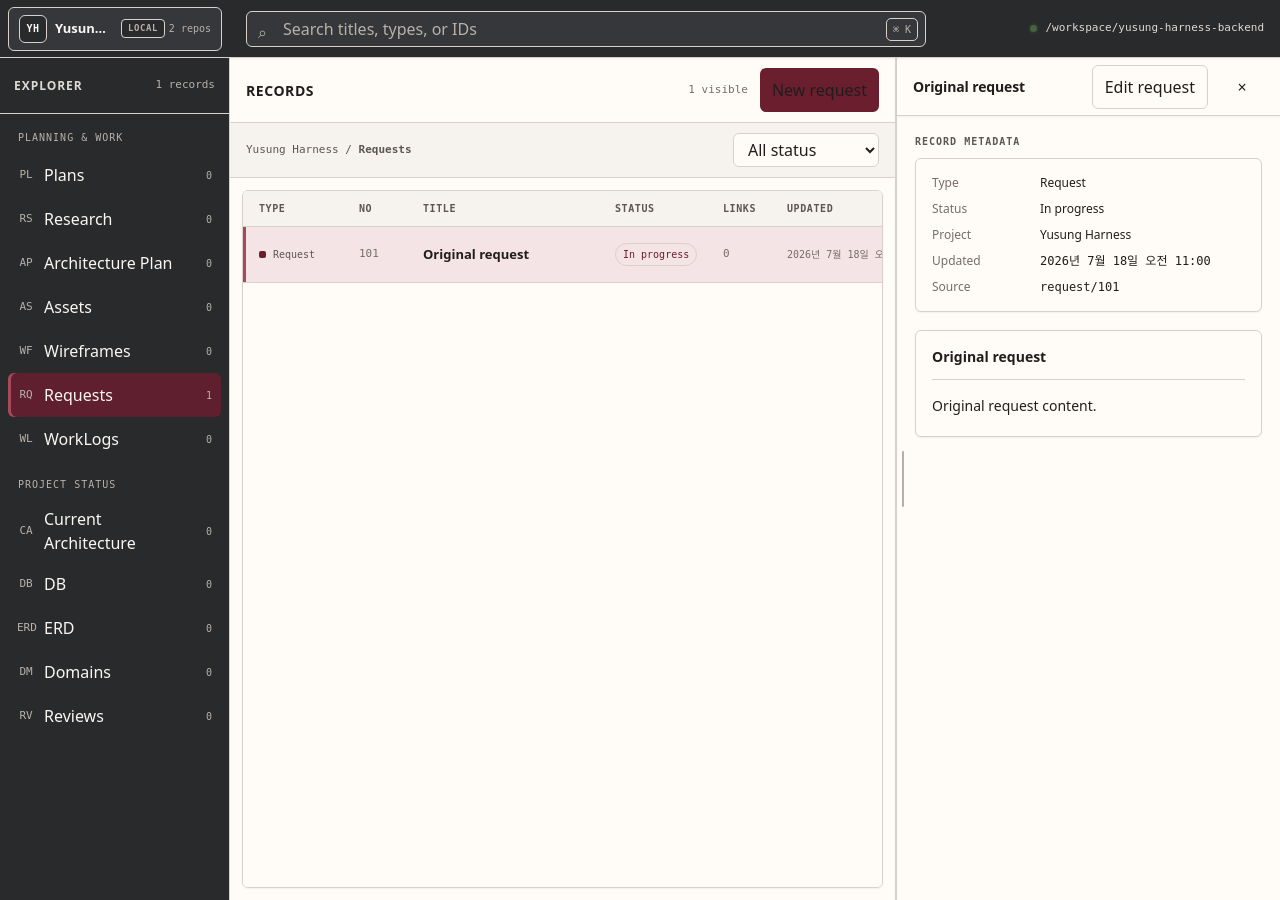
Test: Request central document mutations › 기존 Request 수정은 status 선택을 노출하지 않고 title/content와 현재 status를 함께 저장한다
Click the button "Edit request" at (1150, 86), box [1092, 64, 1208, 108]
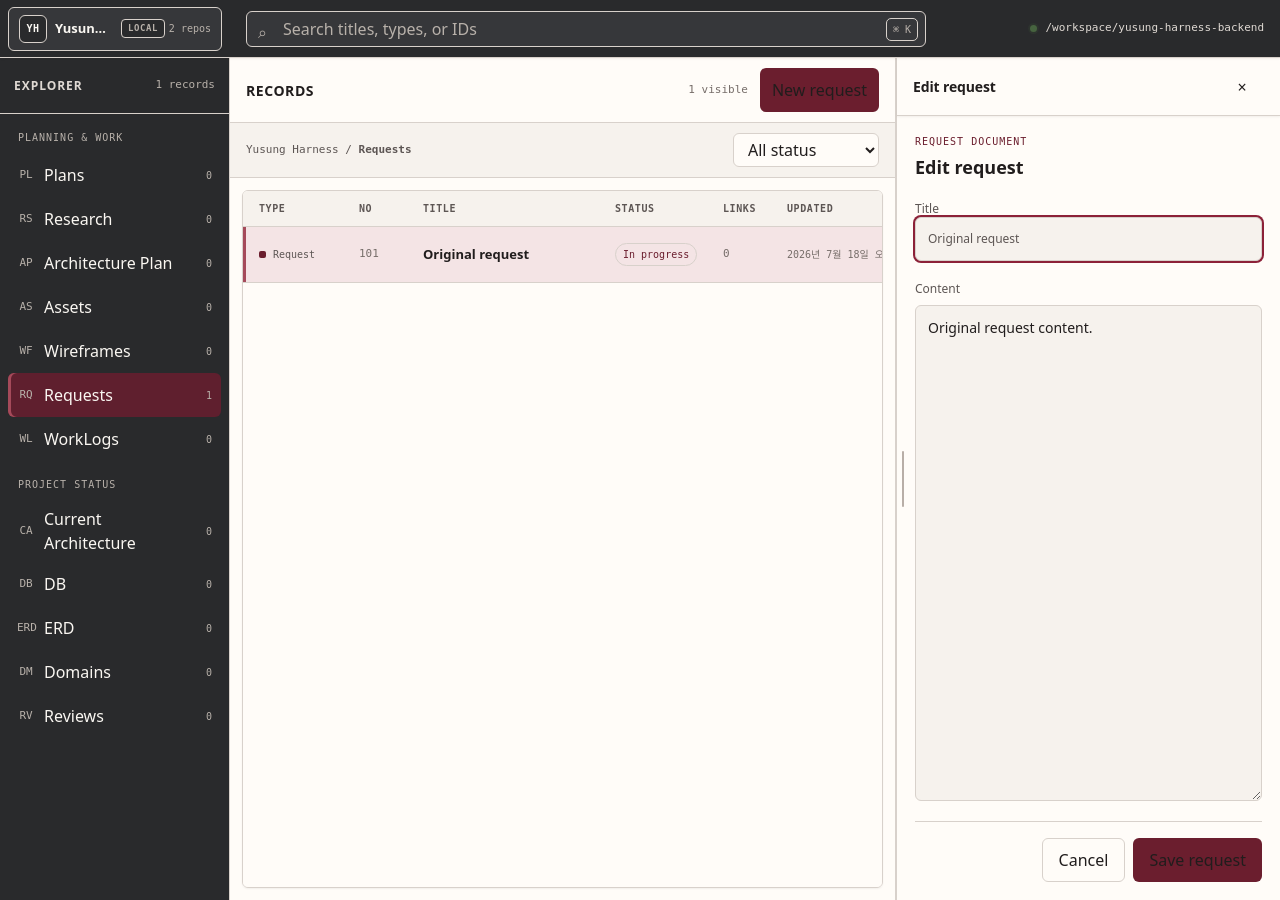
Now the field labelled "Title" holds "Original request"
Now the text box labelled "Content" holds "Original request content.", box [915, 305, 1262, 801]
Replace the text in the field labelled "Title" with "Updated request" at (1088, 239), box [915, 217, 1262, 261]
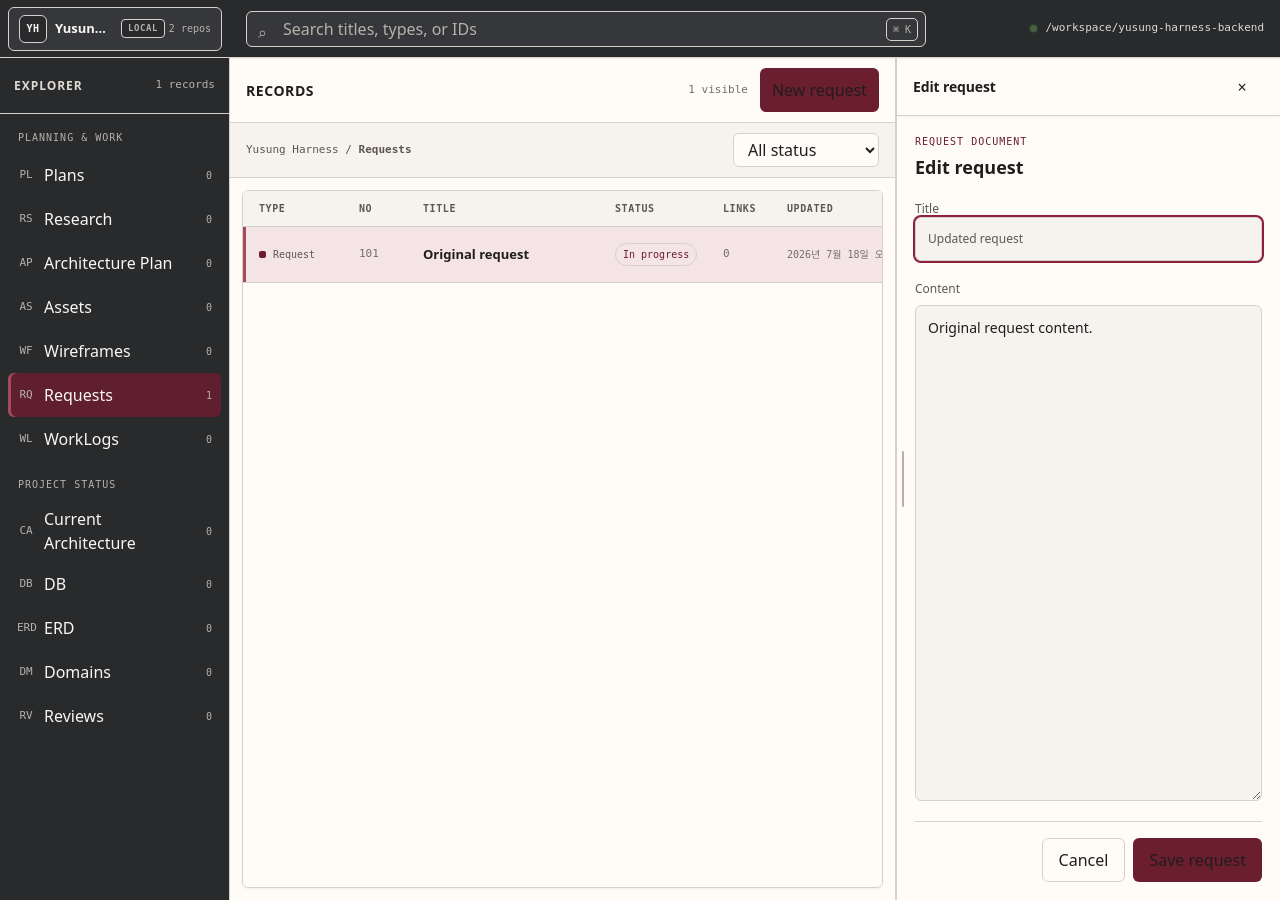
Replace the text in the text box labelled "Content" with "Updated request content." at (1088, 553), box [915, 305, 1262, 801]
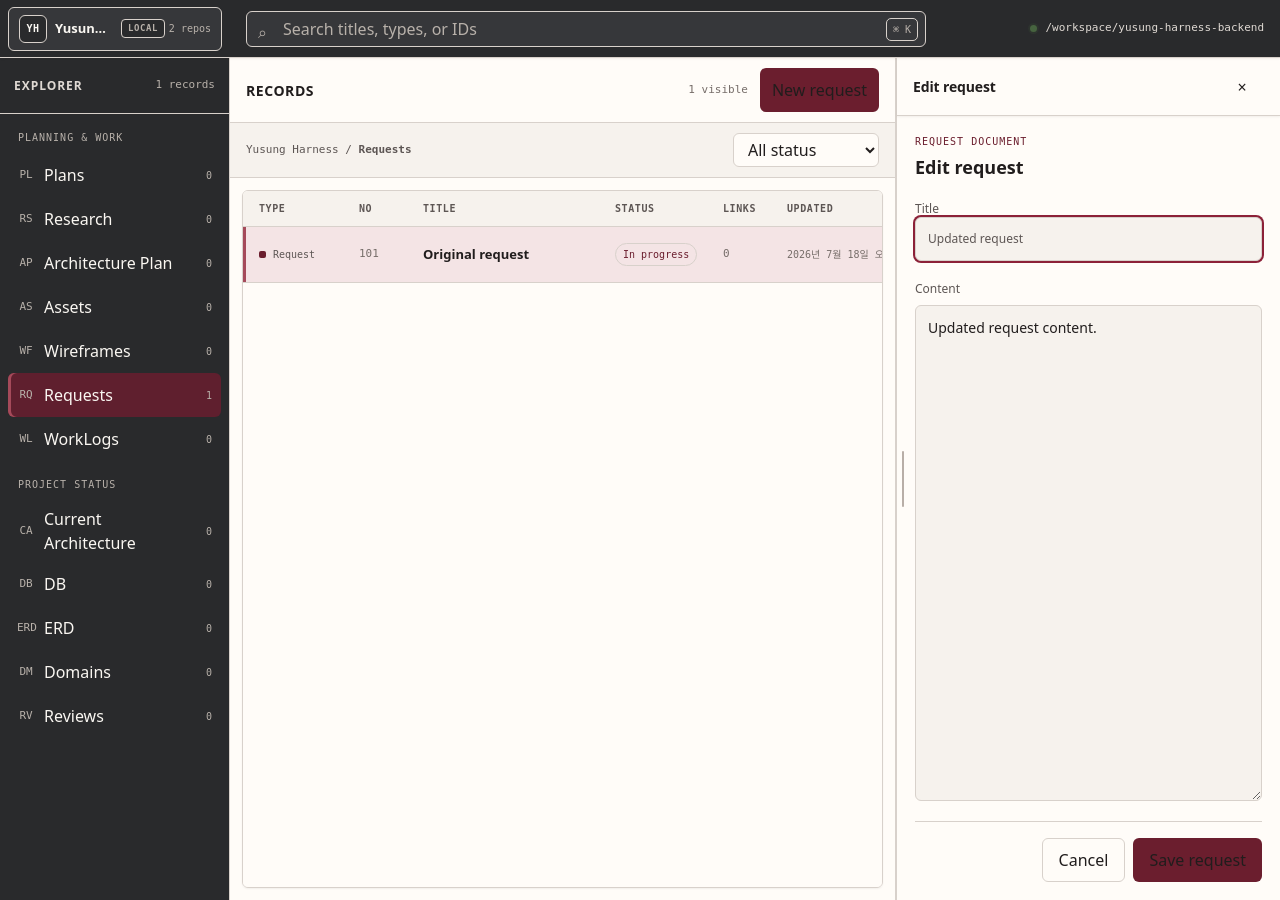
Click the button "Save request" at (1198, 860), box [1133, 838, 1262, 882]
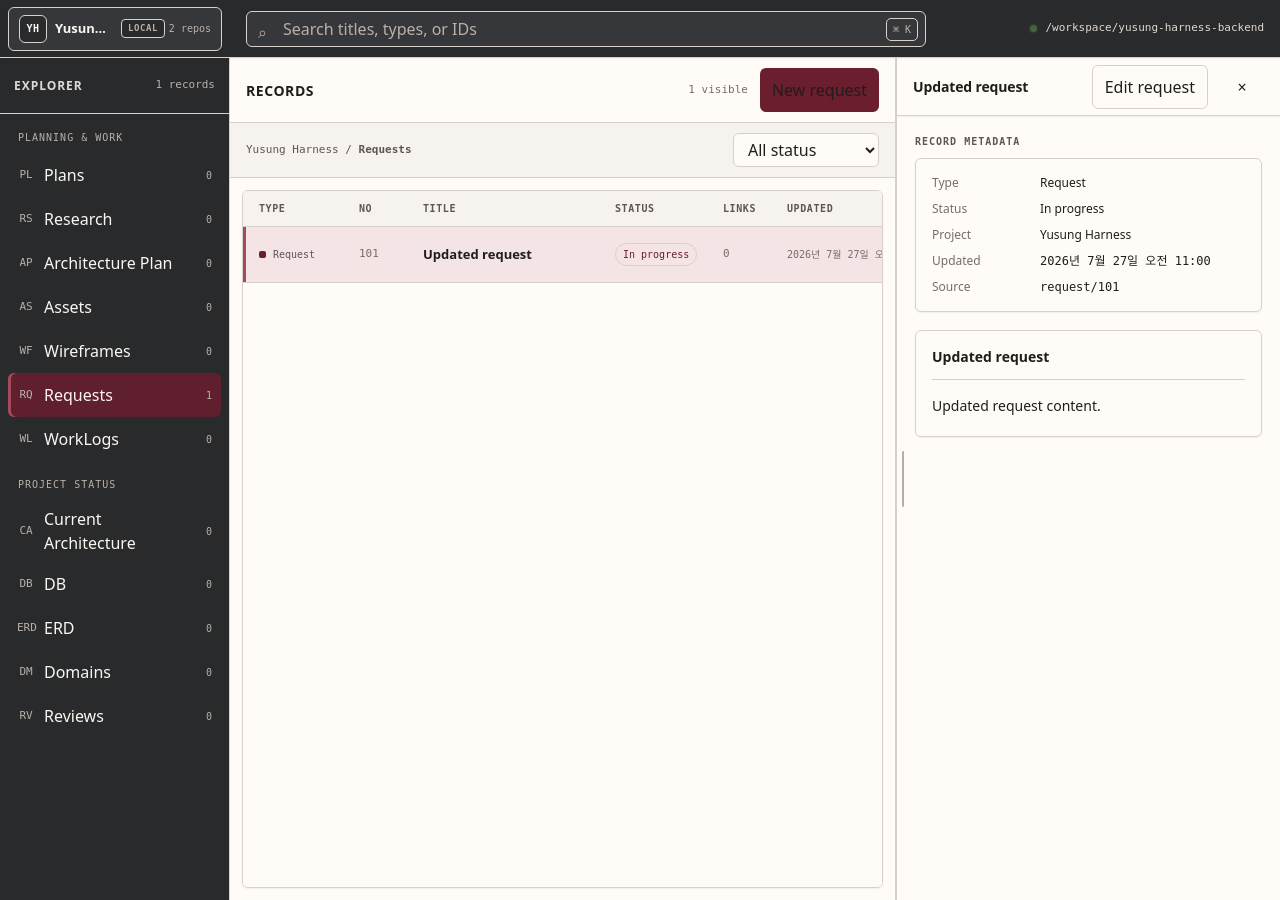
Now the element "Updated request" shows "Updated request content.", box [932, 396, 1101, 415]
